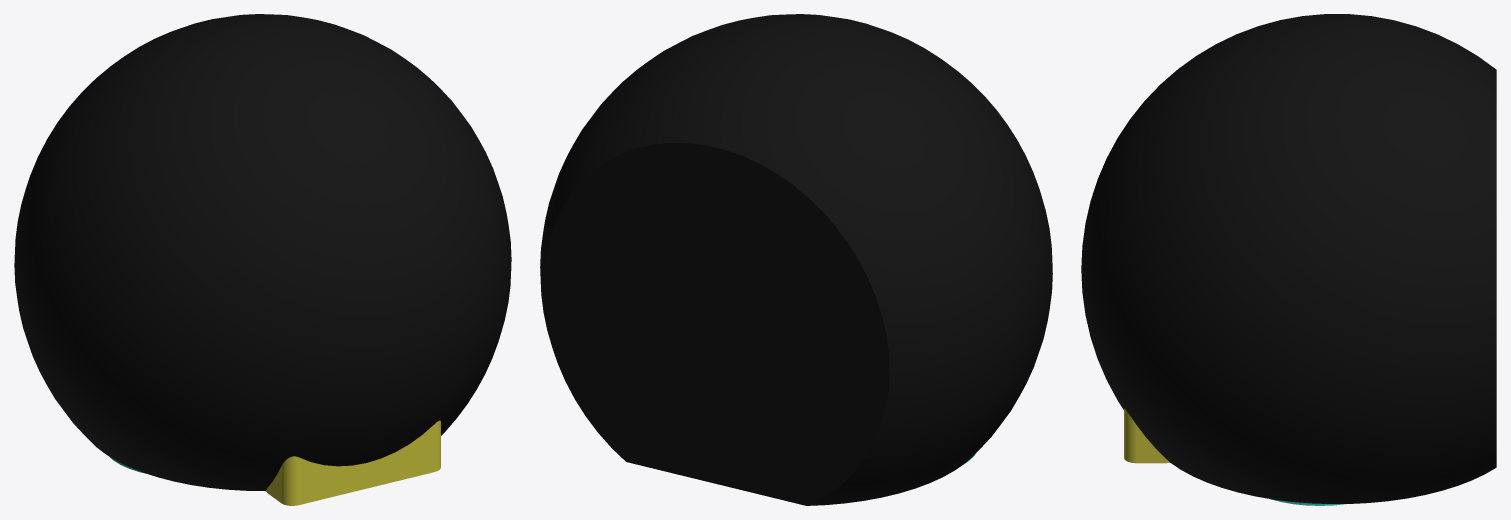
Rendered from head.obj.
3 renders of one model, left to right at view 1: azimuth 30°, elevation 25°; view 2: azimuth 150°, elevation 25°; view 3: azimuth 270°, elevation 25°, orthographic. The views are drawn at different scales.
Parts seen in each view (by area): view 1: Body1:2, Body1:1; view 2: Body1:2; view 3: Body1:2, Body1:1.
Part boxes in pixels (x1,y1,x2,y2): Body1:2: (14, 14, 511, 491); Body1:1: (266, 420, 440, 505); Body1:2: (540, 14, 1052, 505); Body1:2: (1081, 14, 1496, 503); Body1:1: (1124, 408, 1169, 463).
Bounding box in the file's own units: 0.2997 × 0.2517 × 0.2438.
